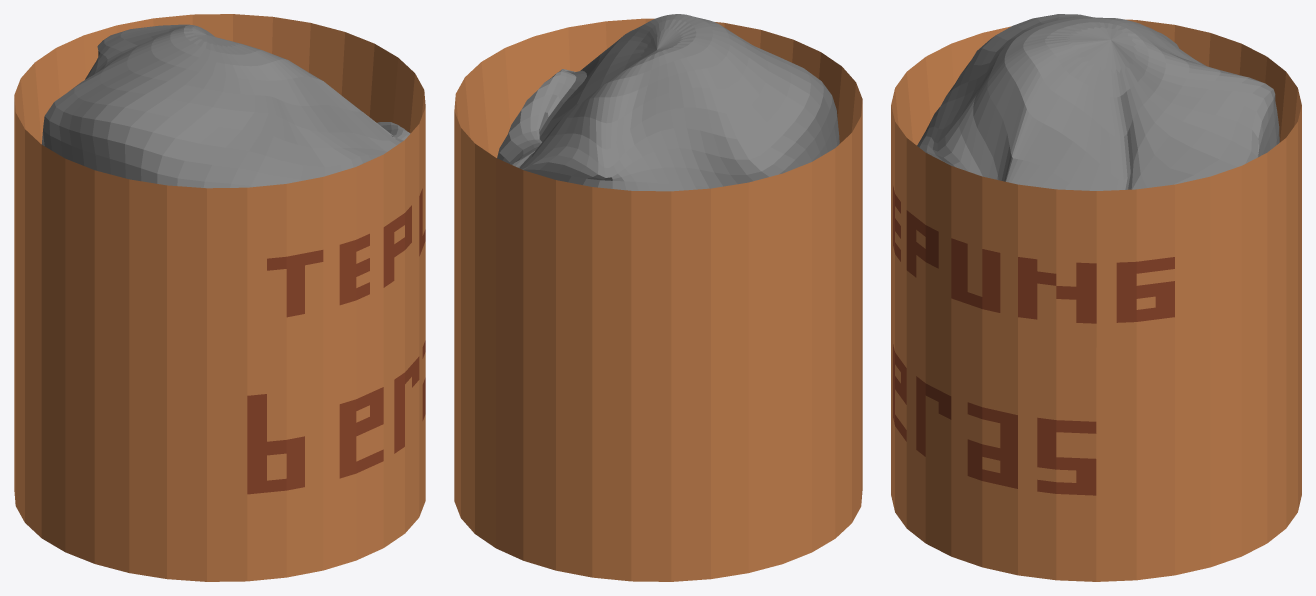
Rendered from Tepung Beras.fbx.
3 renders of one model, left to right at view 1: azimuth 30°, elevation 25°; view 2: azimuth 150°, elevation 25°; view 3: azimuth 270°, elevation 25°, orthographic.
Visible parts, largest first — view 1: Cylinder, Sphere; view 2: Cylinder, Sphere; view 3: Cylinder, Sphere.
Boxes of the visible parts, x1,y1,x2,y2 form: Cylinder: (14, 14, 425, 581); Sphere: (41, 24, 410, 188); Cylinder: (454, 18, 862, 581); Sphere: (497, 14, 839, 191); Cylinder: (891, 19, 1301, 581); Sphere: (917, 14, 1279, 190).
Size of the model in its own units: 48.37 by 59.86 by 48.59.
